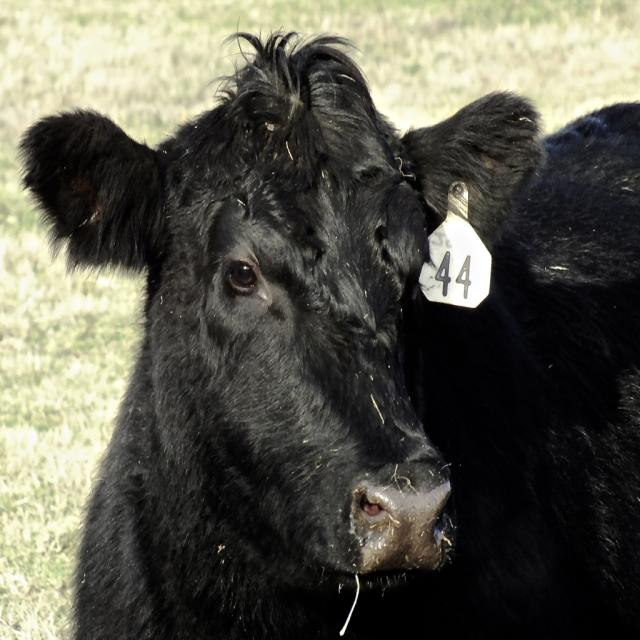Cattle: (16, 18, 640, 640)
